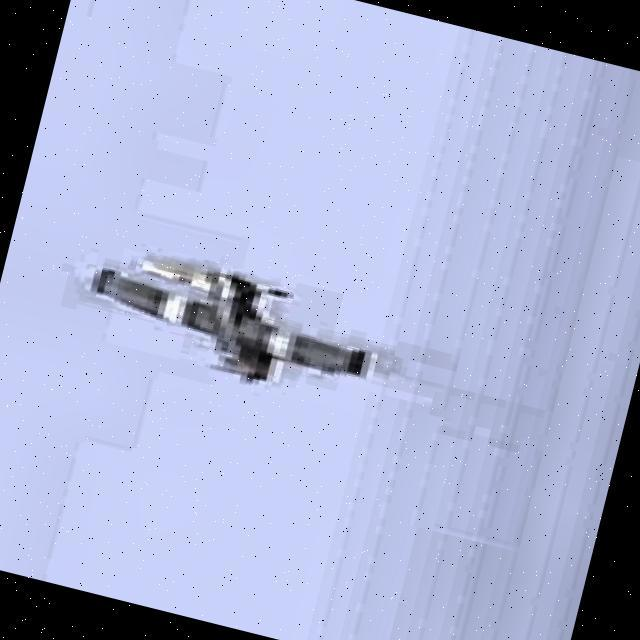iha: (68, 217, 394, 432)
